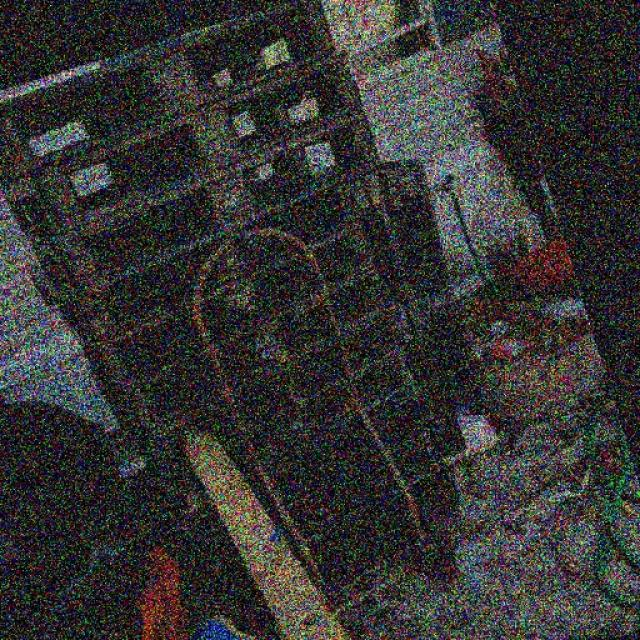non-igps: (22, 100, 392, 310), (0, 44, 380, 246), (91, 247, 411, 456), (0, 0, 342, 195), (74, 208, 403, 407), (51, 167, 374, 361), (210, 336, 436, 498), (254, 405, 477, 567), (369, 150, 497, 424), (237, 366, 454, 524), (280, 452, 484, 596), (301, 506, 477, 622), (326, 543, 470, 640)
